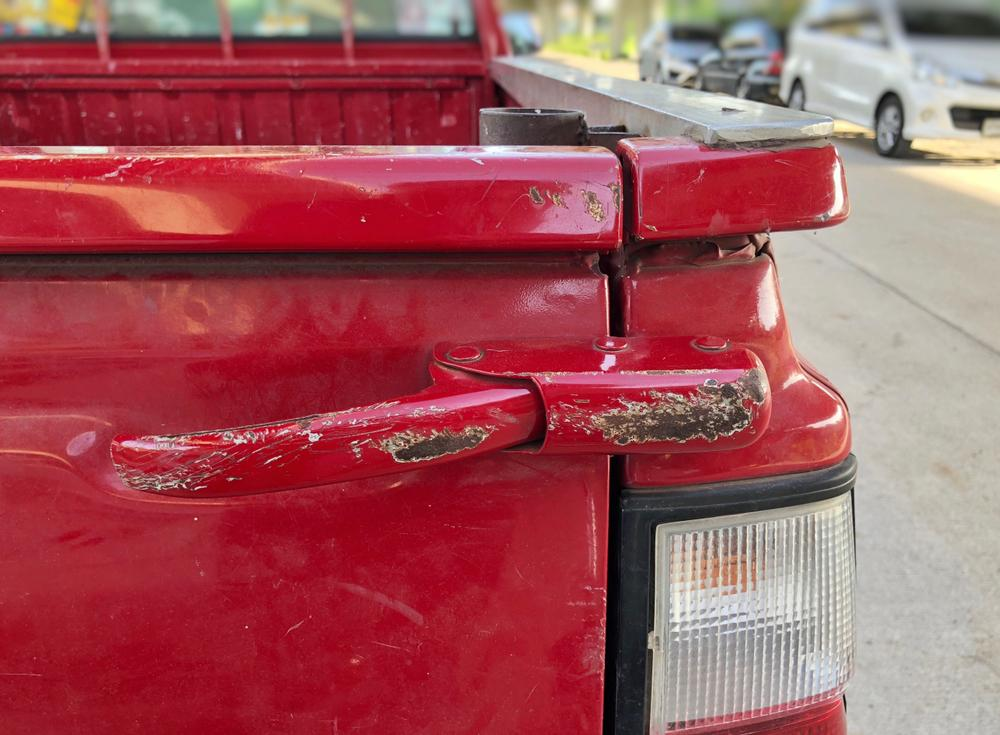scratch: (119, 397, 511, 500), (555, 372, 767, 440)
